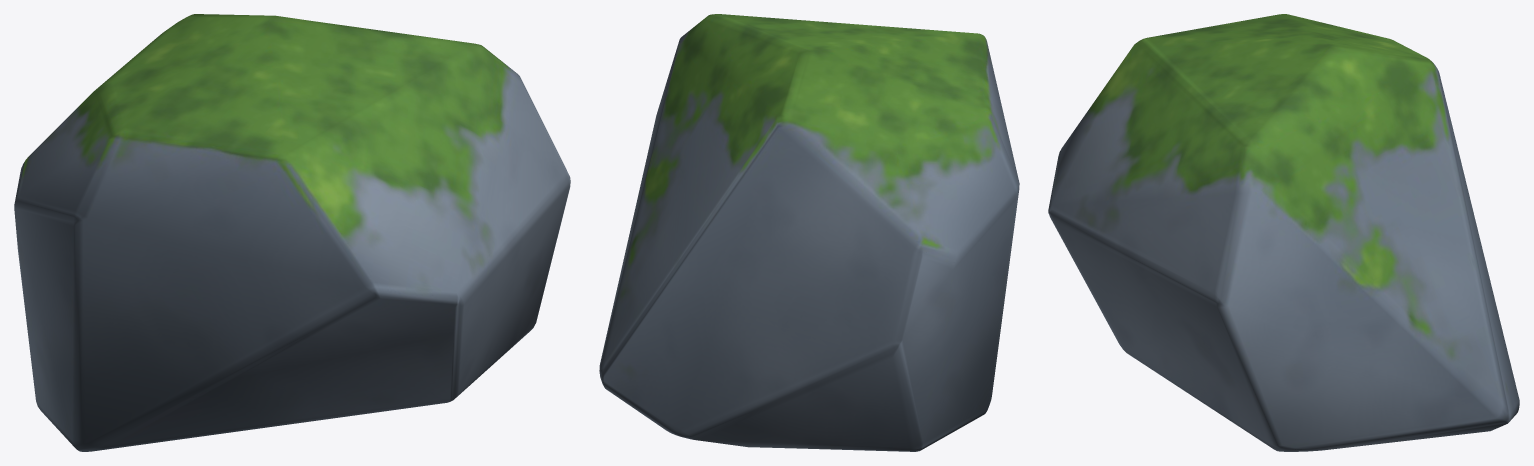
File: rock_d.glb
3 renders of one model, left to right at view 1: azimuth 30°, elevation 25°; view 2: azimuth 150°, elevation 25°; view 3: azimuth 270°, elevation 25°, orthographic. The views are drawn at different scales.
Visible parts, largest first — view 1: rock_d; view 2: rock_d; view 3: rock_d.
Boxes of the visible parts, x1,y1,x2,y2 form: rock_d: [14, 14, 570, 451]; rock_d: [599, 14, 1019, 451]; rock_d: [1048, 14, 1519, 451].
Bounding box in the file's own units: 1.83 × 1.52 × 1.84.
1 material, 1 textured.
